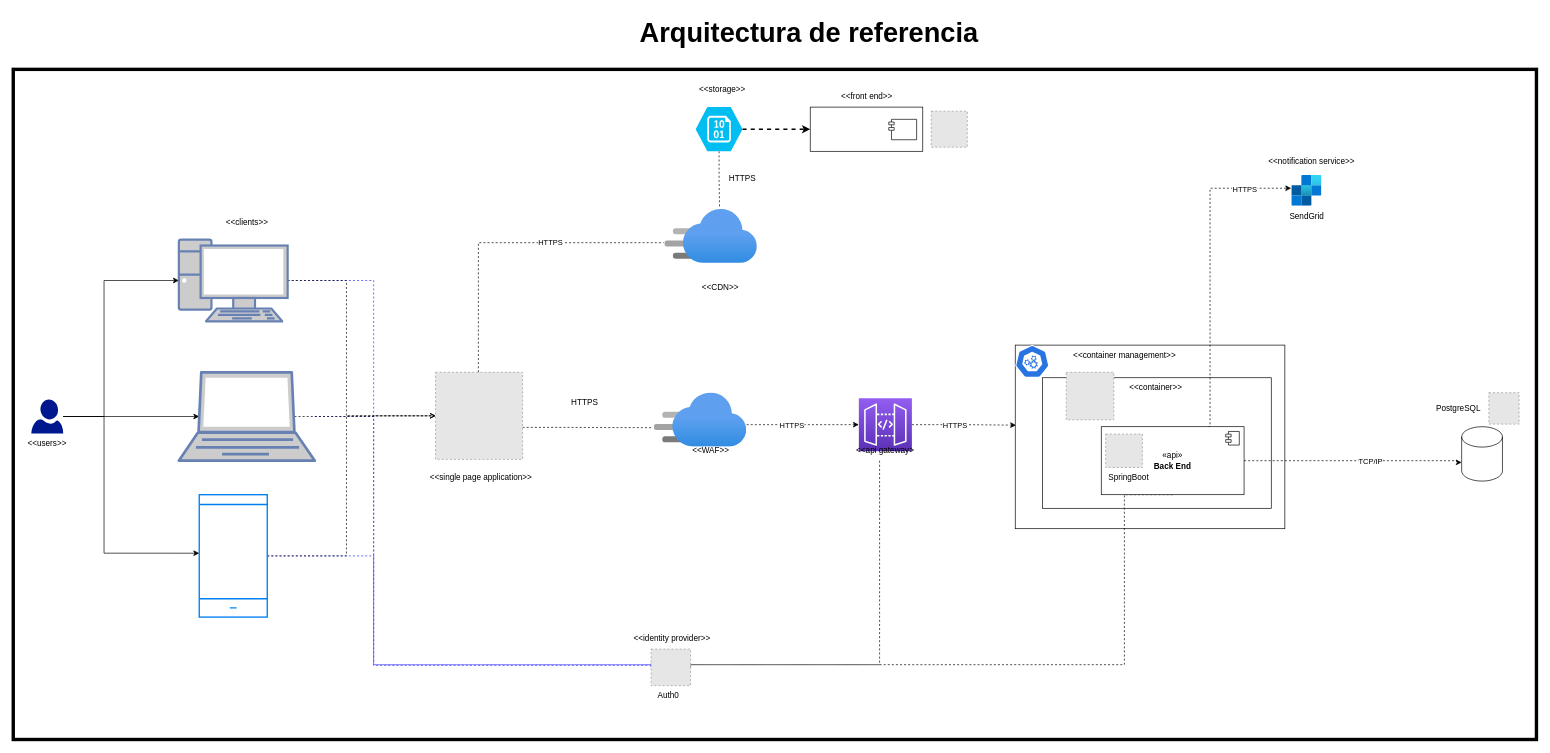
The diagram is 1550 pixels wide and 753 high, and some of its shapes have lost their labels. Grey dashed boxes stand in for pictures. Here are the shapes that lost their labels. From the top down, the centre of each, then its label:
At (866,128): "Angular".
At (1481,453): "Database".
